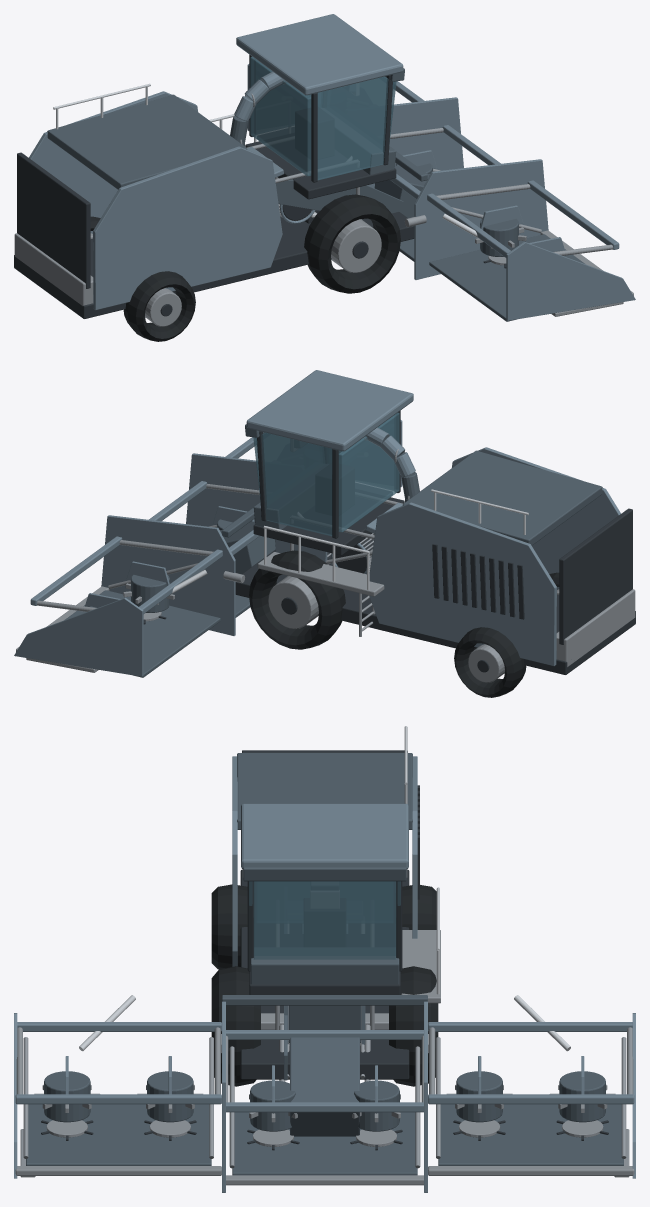
The model's file is john-deere-9900-spfh-structural-study.glb.
The picture shows the model from 3 angles, top to bottom: view 1: azimuth 30°, elevation 25°; view 2: azimuth 150°, elevation 25°; view 3: azimuth 270°, elevation 25°; orthographic projection. The views are drawn at different scales.
Parts seen in each view (by area): view 1: Power_Module_R_Profile, Power_Module_Top_Deck, 772_Center_R_Side_Frame, Cab_Roof_Cap, 772_R_Crop_Divider, Rear_Radiator_Screen, Cab_R_Panoramic_Glass, Front_R_Tire, Cab_Rear_Glass, Carrier_6_7m_Frame, 772_Center_L_Side_Frame, Cab_Floor (+18 smaller); view 2: Power_Module_L_Profile, Power_Module_Top_Deck, 772_Center_L_Side_Frame, Cab_Roof_Cap, 772_L_Crop_Divider, Rear_Radiator_Screen, Cab_L_Panoramic_Glass, Front_L_Tire, Cab_Rear_Glass, 772_Center_R_Side_Frame, Power_Module_R_Profile, Cab_Floor (+19 smaller); view 3: Cab_Front_Panoramic_Glass, Cab_Roof_Cap, Power_Module_Top_Deck, 772_L_Intake_Deck, 772_R_Intake_Deck, 772_Center_Intake_Deck, 772_Center_Intake_Throat, Cab_Lower_Intake_Nose, Carrier_6_7m_Frame, Front_R_Tire, Cab_Floor, Front_L_Tire (+30 smaller).
Part boxes in pixels (left/top/right/bottom): Power_Module_R_Profile: left=93, top=146, right=282, bottom=310; Power_Module_Top_Deck: left=47, top=94, right=247, bottom=189; 772_Center_R_Side_Frame: left=414, top=159, right=548, bottom=279; Cab_Roof_Cap: left=236, top=14, right=403, bottom=95; 772_R_Crop_Divider: left=506, top=241, right=635, bottom=320; Rear_Radiator_Screen: left=17, top=152, right=90, bottom=288; Cab_R_Panoramic_Glass: left=317, top=76, right=394, bottom=180; Front_R_Tire: left=304, top=194, right=400, bottom=293; Cab_Rear_Glass: left=250, top=56, right=311, bottom=176; Carrier_6_7m_Frame: left=14, top=212, right=414, bottom=318; 772_Center_L_Side_Frame: left=389, top=97, right=463, bottom=170; Cab_Floor: left=245, top=133, right=396, bottom=199; Power_Module_L_Profile: left=369, top=502, right=556, bottom=666; Power_Module_Top_Deck: left=402, top=450, right=602, bottom=545; 772_Center_L_Side_Frame: left=101, top=515, right=235, bottom=635; Cab_Roof_Cap: left=246, top=370, right=413, bottom=451; 772_L_Crop_Divider: left=14, top=597, right=143, bottom=676; Rear_Radiator_Screen: left=559, top=508, right=632, bottom=644; Cab_L_Panoramic_Glass: left=255, top=432, right=332, bottom=536; Front_L_Tire: left=249, top=550, right=345, bottom=649; Cab_Rear_Glass: left=338, top=412, right=399, bottom=532; 772_Center_R_Side_Frame: left=186, top=453, right=260, bottom=526; Power_Module_R_Profile: left=452, top=447, right=620, bottom=589; Cab_Floor: left=253, top=489, right=404, bottom=555; Cab_Front_Panoramic_Glass: left=253, top=881, right=396, bottom=959; Cab_Roof_Cap: left=241, top=803, right=408, bottom=868; Power_Module_Top_Deck: left=237, top=753, right=412, bottom=829; 772_L_Intake_Deck: left=438, top=1104, right=623, bottom=1165; 772_R_Intake_Deck: left=26, top=1104, right=211, bottom=1165; 772_Center_Intake_Deck: left=232, top=1112, right=417, bottom=1175; 772_Center_Intake_Throat: left=290, top=1037, right=359, bottom=1136; Cab_Lower_Intake_Nose: left=250, top=948, right=399, bottom=984; Carrier_6_7m_Frame: left=240, top=869, right=409, bottom=1079; Front_R_Tire: left=211, top=966, right=260, bottom=1086; Cab_Floor: left=249, top=934, right=400, bottom=994; Front_L_Tire: left=389, top=966, right=438, bottom=1086.
Size of the model in its own units: 9.2 by 4.05 by 9.05.
